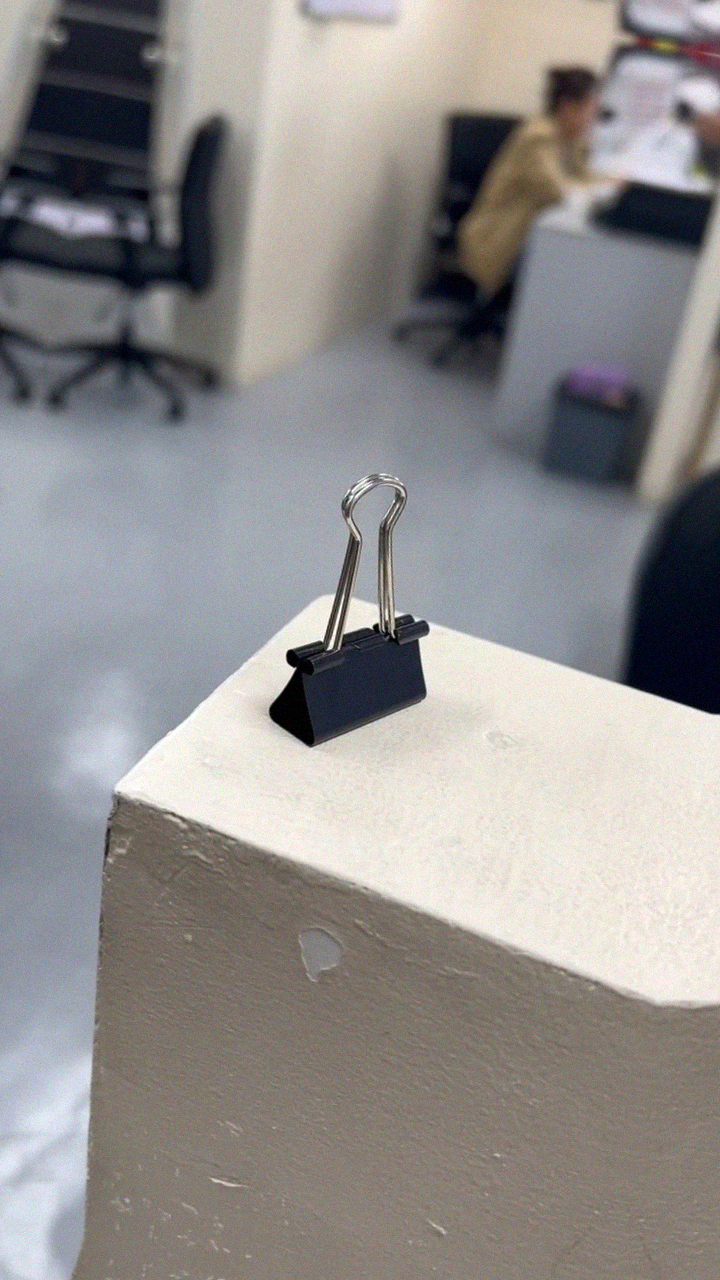kep_giay: (254, 457, 476, 772)
